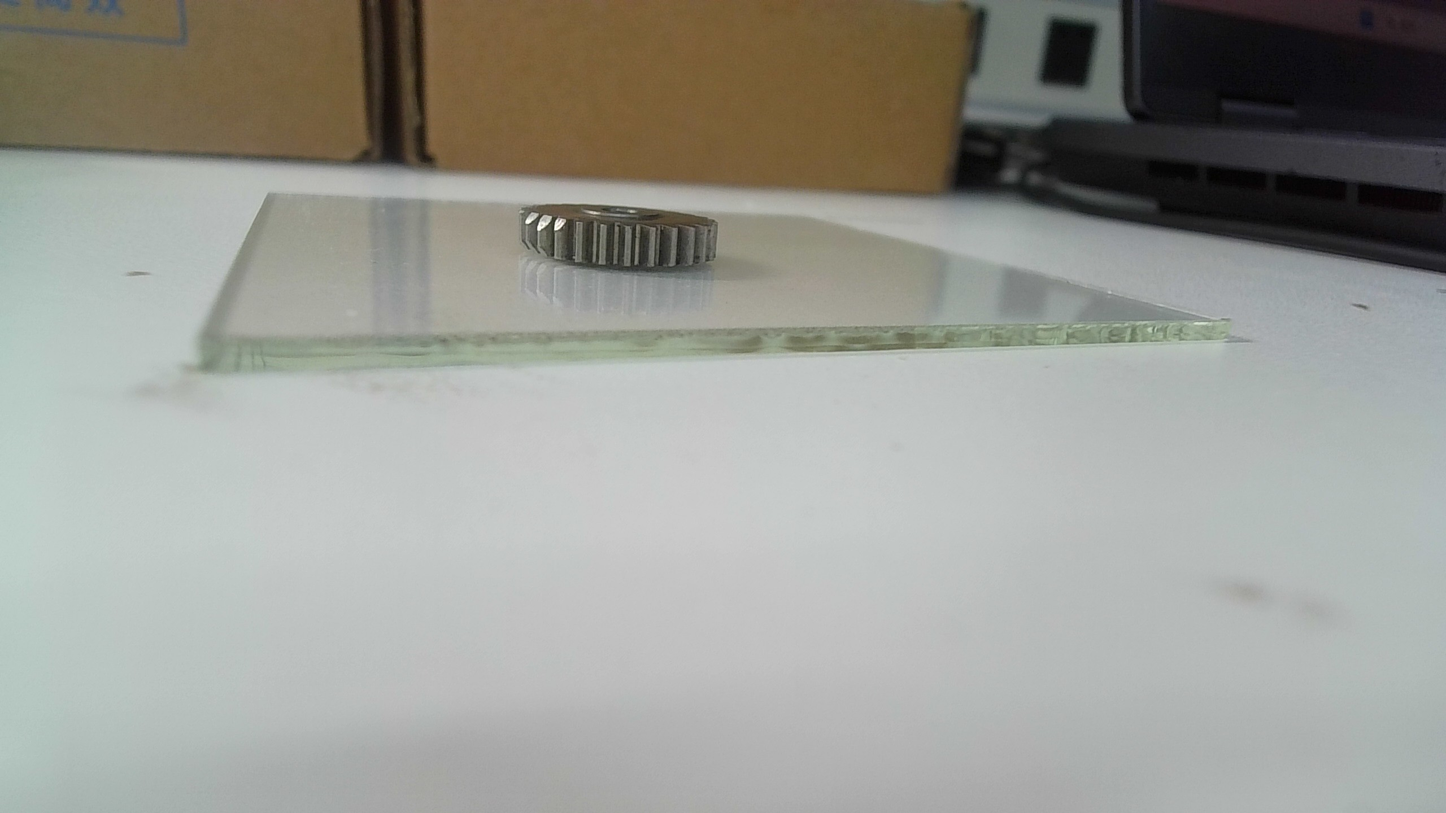gear: (516, 200, 722, 276)
